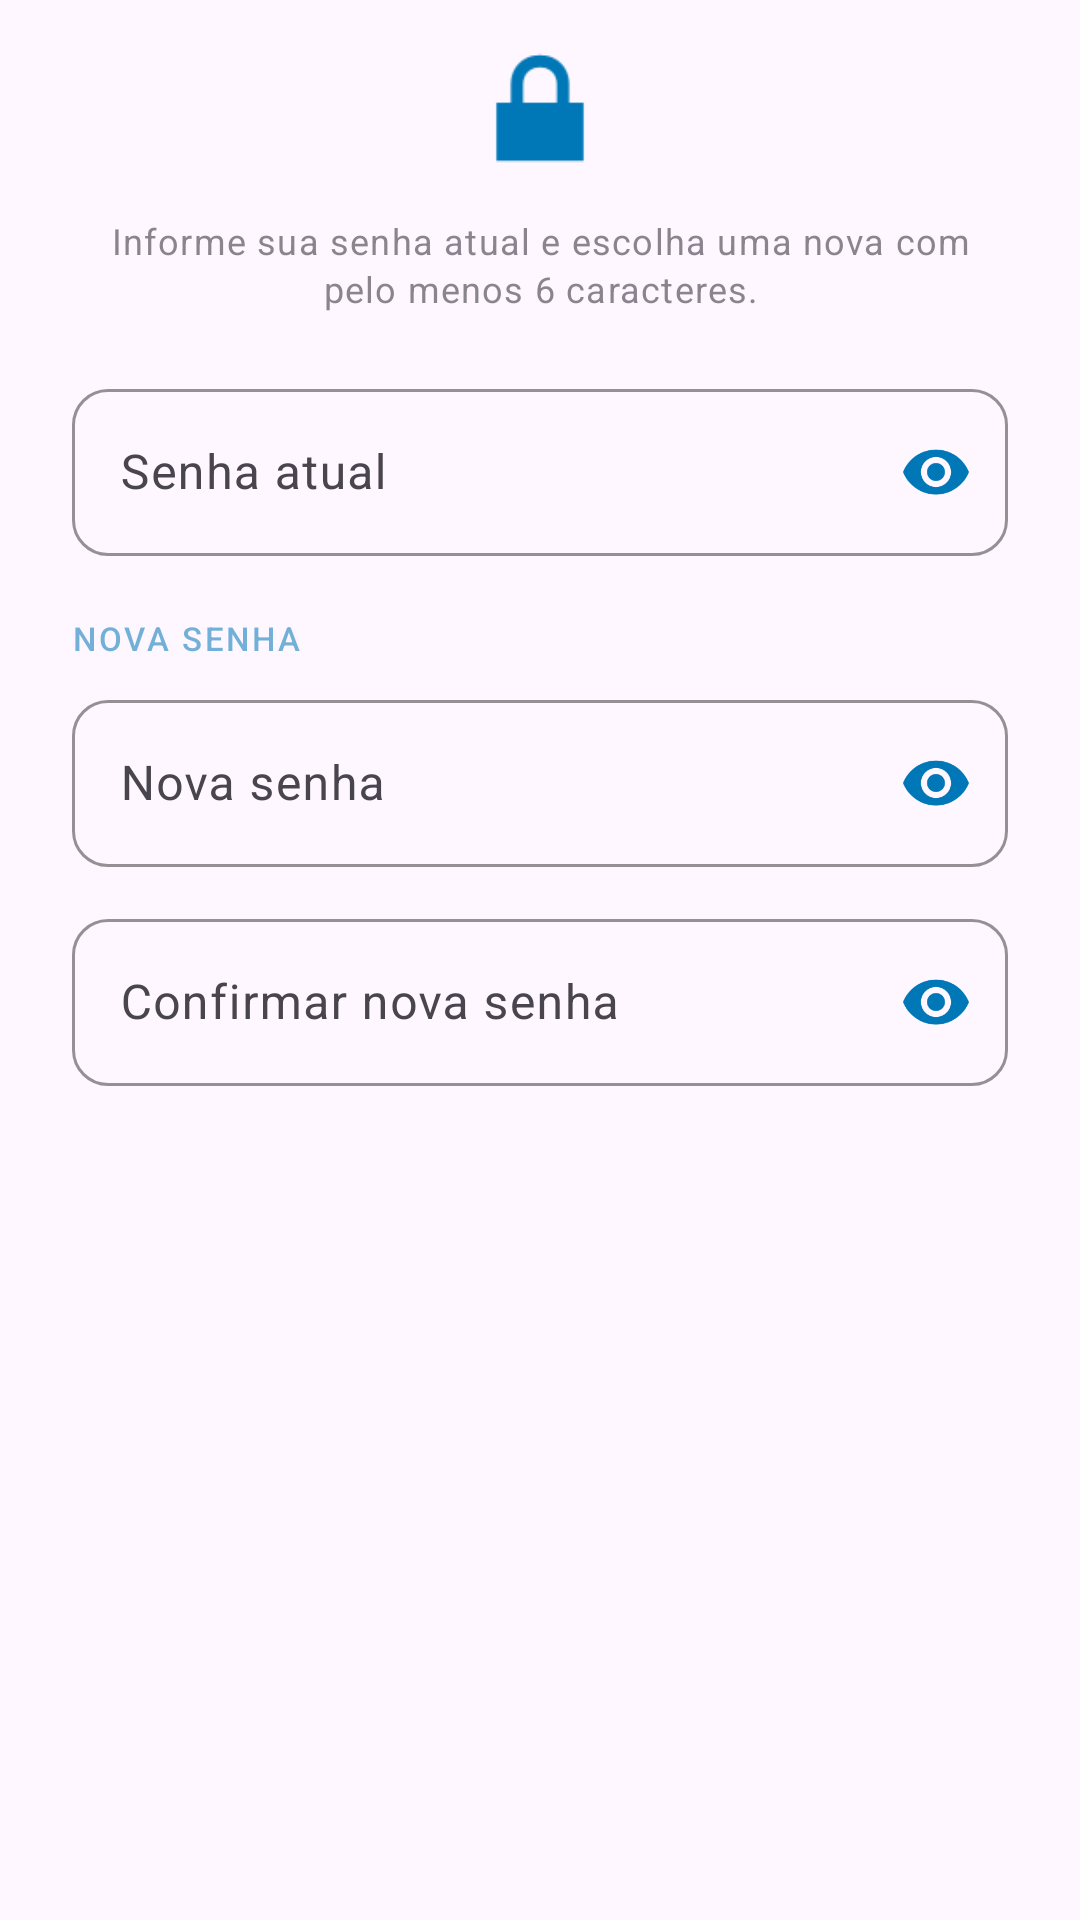

Locate icon controls on the screen. Image size 1080px x 1920px, boxes as region(x1, y1, x2, y2).
Ícone de cadeado: region(496, 54, 584, 162)
